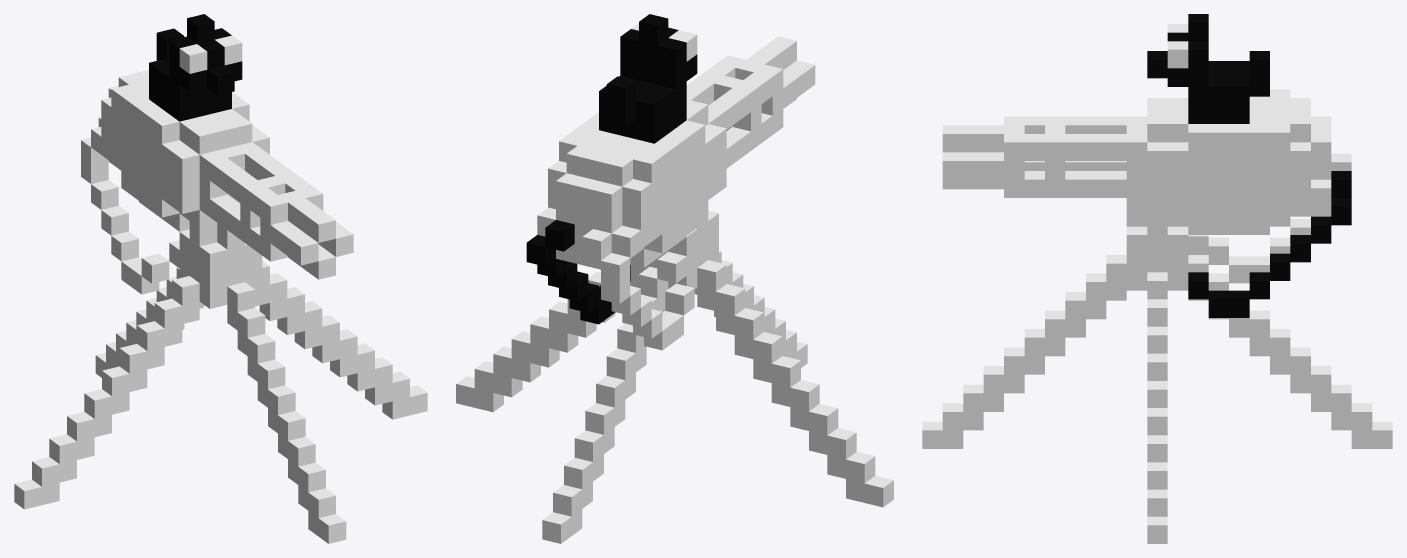
The model's file is Turret.fbx.
The picture shows the model from 3 angles, left to right: view 1: azimuth 30°, elevation 25°; view 2: azimuth 150°, elevation 25°; view 3: azimuth 270°, elevation 25°; orthographic projection. The views are drawn at different scales.
Parts seen in each view (by area): view 1: Gun, Leg_R, Leg_F, Leg_L, Ducky :3, Wire_R, Base_2, Leg_B, Base_1; view 2: Gun, Leg_R, Ducky :3, Leg_B, Leg_L, Wire_R, Wire_Y, Leg_F, Base_2, Base_1; view 3: Gun, Leg_F, Ducky :3, Leg_B, Leg_L, Wire_Y, Wire_R, Base_2, Base_1.
Boxes of the visible parts, bbox=[...] form: Gun: bbox=[91, 70, 353, 279]; Leg_R: bbox=[14, 276, 199, 509]; Leg_F: bbox=[227, 282, 346, 543]; Leg_L: bbox=[255, 261, 427, 419]; Ducky :3: bbox=[149, 14, 242, 121]; Wire_R: bbox=[81, 117, 179, 294]; Base_2: bbox=[179, 229, 262, 290]; Leg_B: bbox=[95, 267, 204, 377]; Base_1: bbox=[179, 269, 262, 308]; Gun: bbox=[537, 36, 815, 269]; Leg_R: bbox=[697, 260, 893, 507]; Ducky :3: bbox=[599, 14, 697, 143]; Leg_B: bbox=[542, 266, 668, 543]; Leg_L: bbox=[456, 272, 638, 412]; Wire_R: bbox=[582, 229, 694, 350]; Wire_Y: bbox=[526, 220, 630, 324]; Leg_F: bbox=[694, 250, 807, 367]; Base_2: bbox=[647, 210, 718, 275]; Base_1: bbox=[631, 252, 718, 288]; Gun: bbox=[942, 89, 1331, 234]; Leg_F: bbox=[922, 255, 1126, 448]; Ducky :3: bbox=[1147, 14, 1269, 123]; Leg_B: bbox=[1188, 255, 1392, 448]; Leg_L: bbox=[1147, 272, 1167, 543]; Wire_Y: bbox=[1188, 171, 1351, 317]; Wire_R: bbox=[1188, 153, 1351, 283]; Base_2: bbox=[1126, 226, 1188, 272]; Base_1: bbox=[1126, 272, 1188, 290].
Size of the model in its own units: 2.3 by 2.3 by 2.3.
